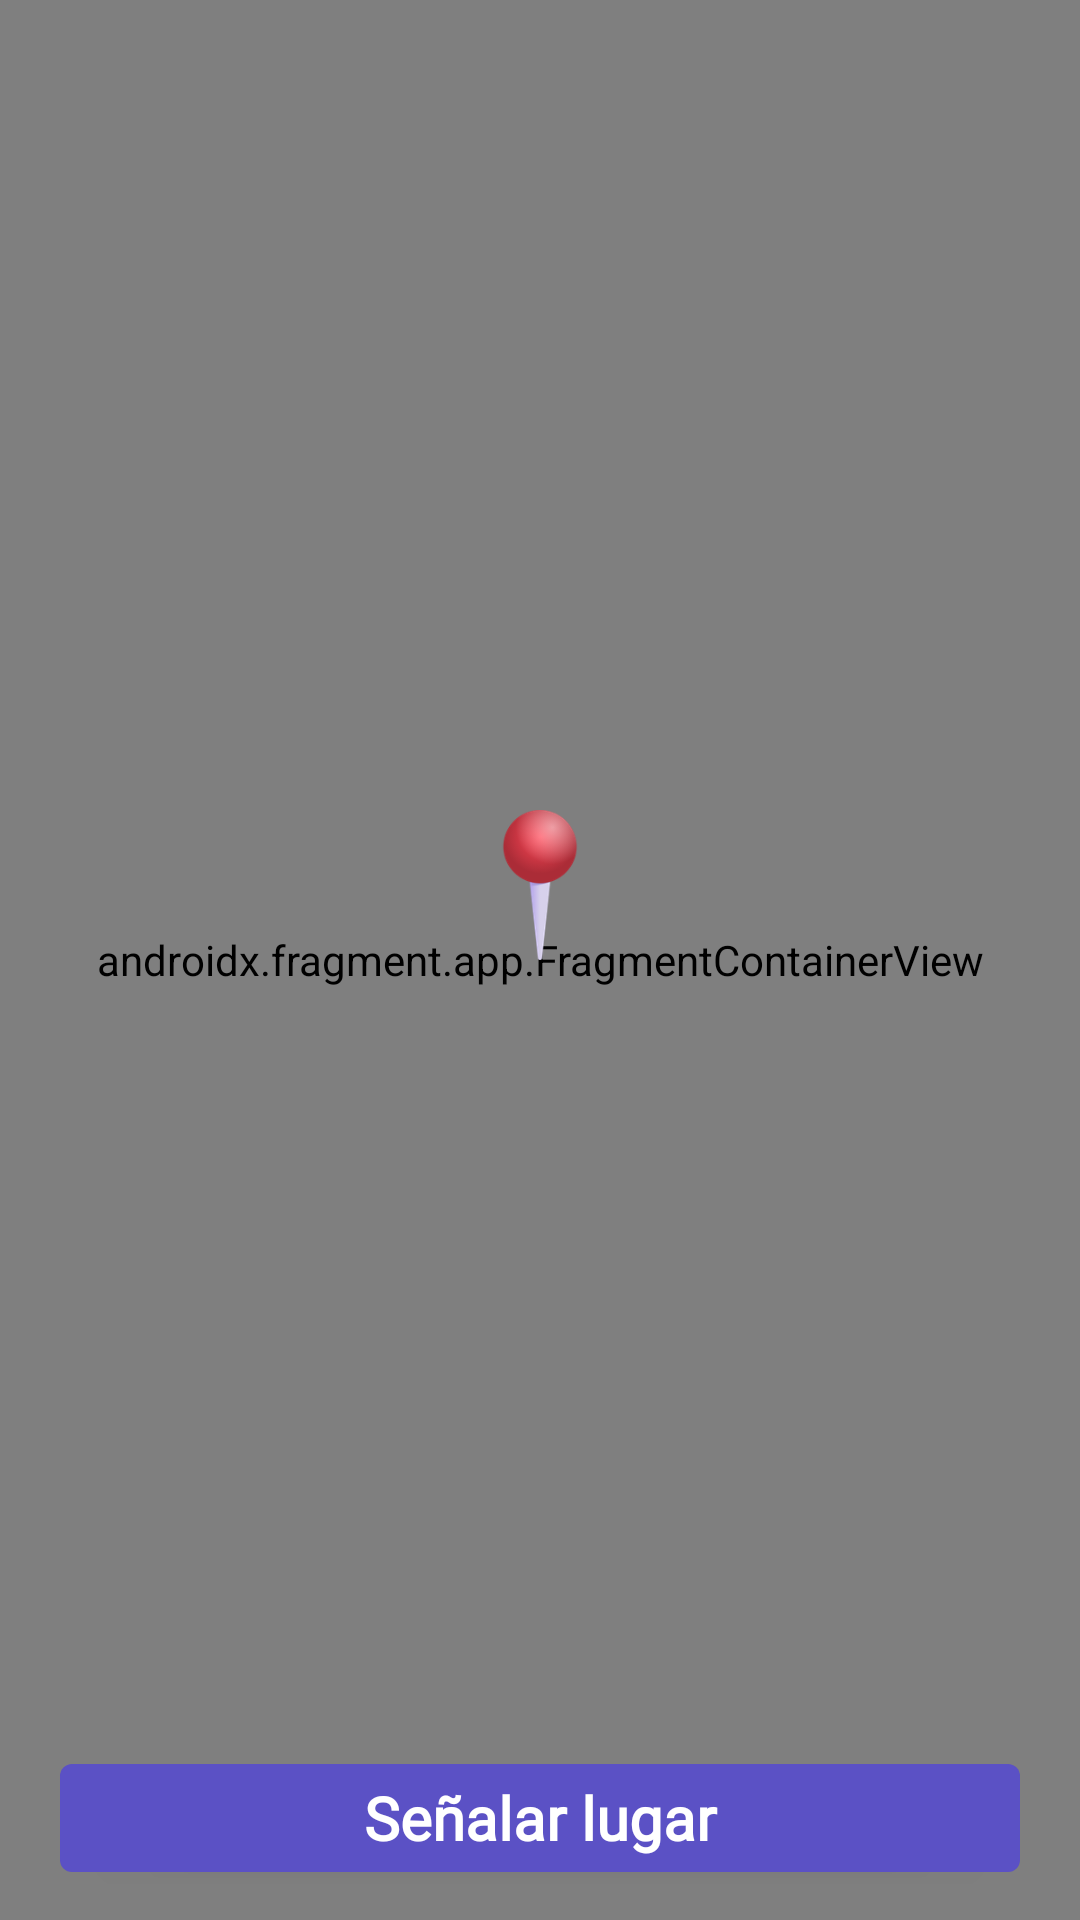

Named icons in this screenshot (1080px x 1920px) and their centers, point (x, y):
Marcardor de seleccion: point (539, 885)
